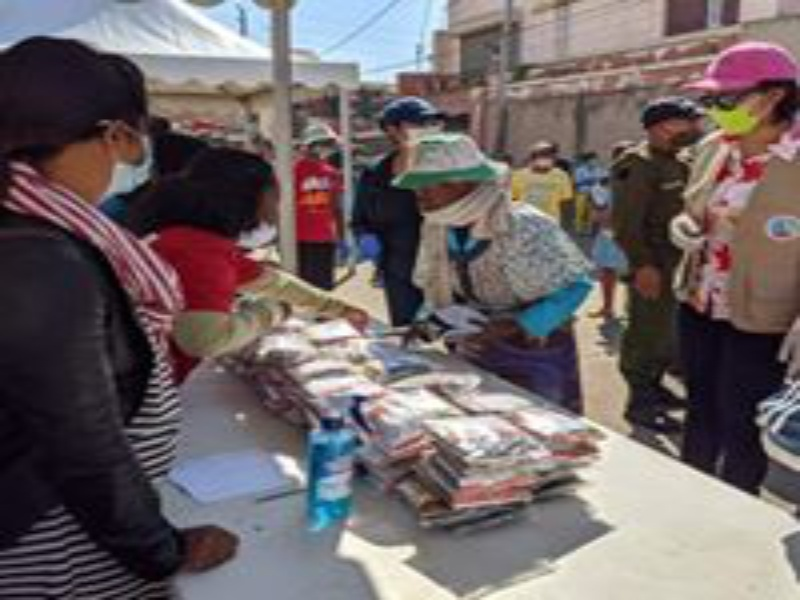ManaoArotava: (696, 40, 787, 149)
